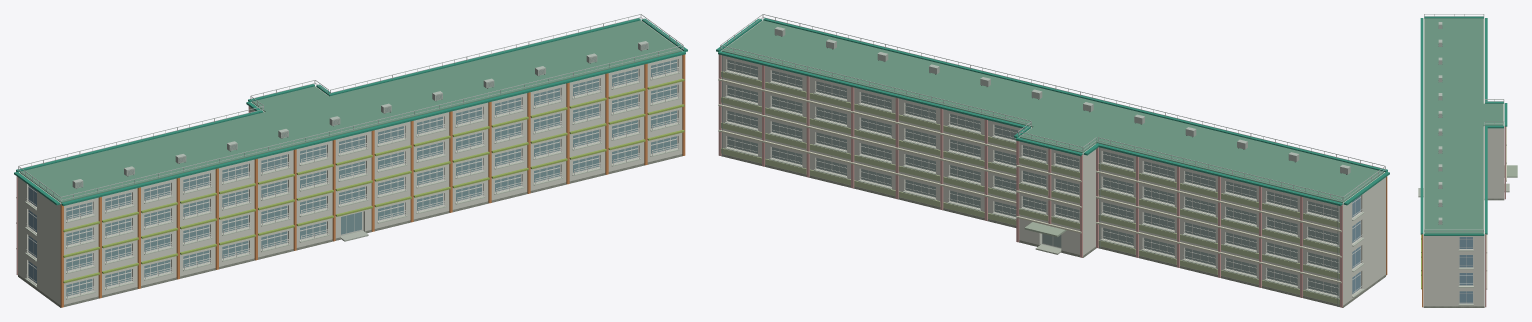
The picture shows the model from 3 angles, left to right: view 1: azimuth 30°, elevation 25°; view 2: azimuth 150°, elevation 25°; view 3: azimuth 270°, elevation 25°; orthographic projection. The views are drawn at different scales.
Visible parts, largest first — view 1: main__wallWhite, main__roofGreen, main__glass, main__frame, main__orangePier, main__limeBand, main__corniceGreen, main__sill, main__roofRail, main__baseStone, main__roofEquipment, main__stairglass; view 2: main__wallWhite, main__roofGreen, main__rearGlass, main__rearMint, main__frame, main__pinkPier, main__creamBand, main__corniceGreen, main__sill, main__roofRail, main__baseStone, main__roofEquipment (+2 smaller); view 3: main__roofGreen, main__wallWhite, main__corniceGreen, main__roofRail, main__stairglass, main__roofEquipment, main__frame, main__pinkPier, main__baseStone, main__creamBand, main__rearCanopy, main__orangePier (+1 smaller).
Boxes of the visible parts, bbox=[...] form: main__wallWhite: bbox=[18, 20, 682, 305]; main__roofGreen: bbox=[20, 20, 681, 202]; main__glass: bbox=[66, 59, 676, 296]; main__frame: bbox=[26, 59, 678, 298]; main__orangePier: bbox=[60, 54, 685, 307]; main__limeBand: bbox=[63, 78, 684, 283]; main__corniceGreen: bbox=[14, 18, 687, 205]; main__sill: bbox=[25, 72, 679, 299]; main__roofRail: bbox=[18, 14, 683, 200]; main__baseStone: bbox=[18, 154, 682, 307]; main__roofEquipment: bbox=[72, 41, 648, 188]; main__stairglass: bbox=[28, 185, 36, 283]; main__wallWhite: bbox=[721, 20, 1385, 305]; main__roofGreen: bbox=[722, 20, 1383, 202]; main__rearGlass: bbox=[727, 59, 1338, 295]; main__rearMint: bbox=[721, 71, 1339, 304]; main__frame: bbox=[726, 59, 1362, 295]; main__pinkPier: bbox=[718, 54, 1342, 307]; main__creamBand: bbox=[718, 78, 1341, 283]; main__corniceGreen: bbox=[716, 18, 1389, 205]; main__sill: bbox=[724, 71, 1364, 298]; main__roofRail: bbox=[720, 14, 1385, 200]; main__baseStone: bbox=[721, 154, 1385, 307]; main__roofEquipment: bbox=[774, 27, 1350, 174]; main__roofGreen: bbox=[1424, 18, 1503, 233]; main__wallWhite: bbox=[1423, 19, 1504, 306]; main__corniceGreen: bbox=[1420, 16, 1507, 235]; main__roofRail: bbox=[1424, 14, 1504, 232]; main__stairglass: bbox=[1459, 237, 1472, 303]; main__roofEquipment: bbox=[1438, 22, 1442, 224]; main__frame: bbox=[1459, 237, 1473, 303]; main__pinkPier: bbox=[1485, 126, 1505, 307]; main__baseStone: bbox=[1423, 198, 1504, 307]; main__creamBand: bbox=[1486, 126, 1506, 289]; main__rearCanopy: bbox=[1504, 165, 1517, 177]; main__orangePier: bbox=[1422, 234, 1423, 307].
Size of the model in its own units: 86.56 by 14.65 by 16.63.
Materials: 22 (1 with a texture image).
